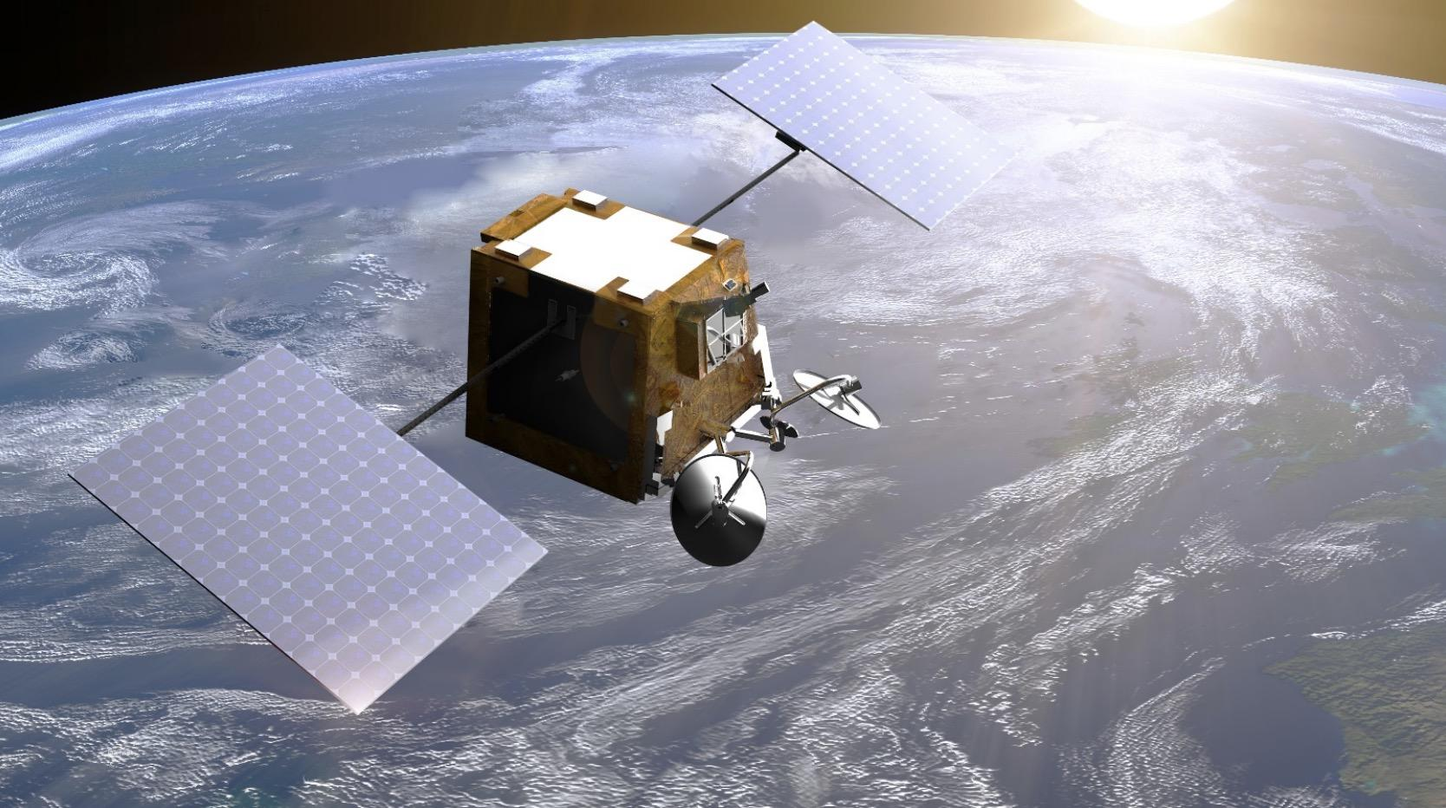antenna: (668, 450, 769, 569), (790, 365, 884, 433)
body: (461, 185, 785, 511)
solar: (62, 340, 553, 720), (708, 17, 1023, 235)
